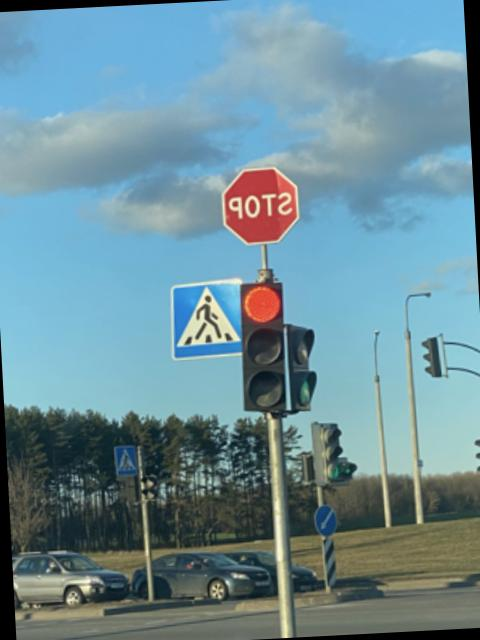crosswalk-sign: (169, 276, 249, 361), (109, 447, 143, 484)
